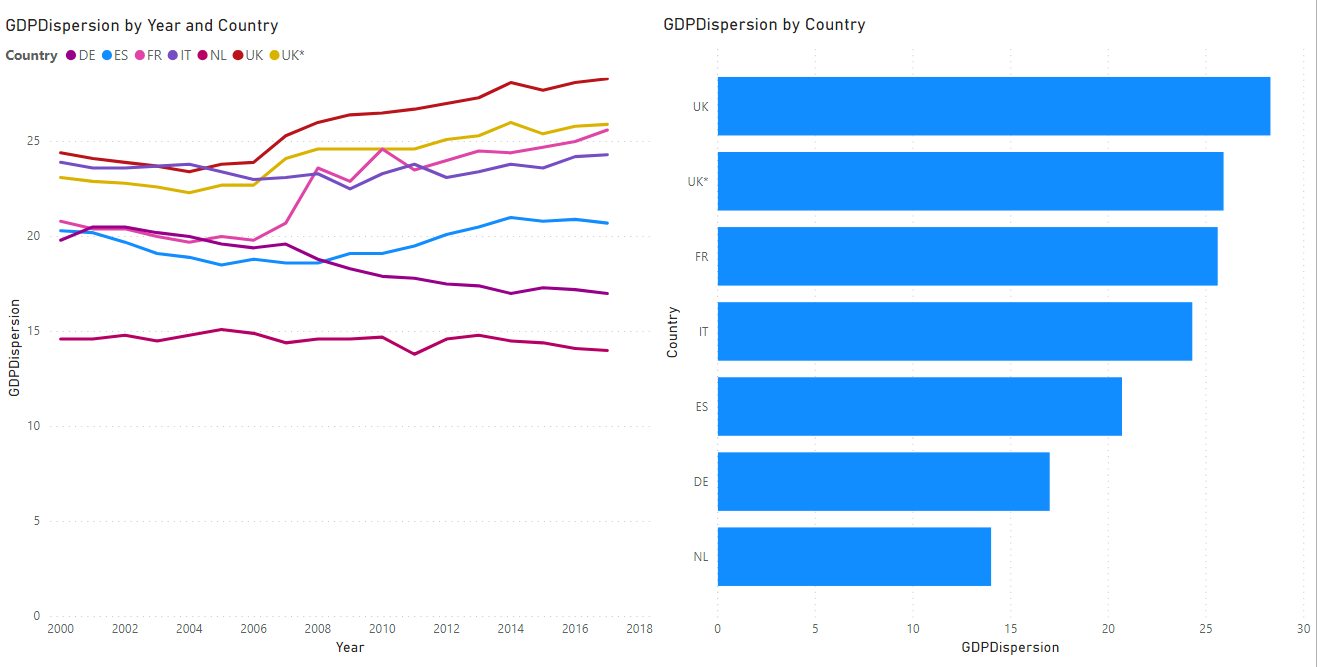

What the dashboard file says about the page in this screenshot:
{"tool":"powerbi","page":{"name":"Page 1","canvas":[1280,720],"ordinal":0},"visuals":[{"type":"lineChart","fields":{"Series":["CalculatedDisperions_LondonFix.Country"],"Y":["Sum(CalculatedDisperions_LondonFix.GDPDispersion)"],"Category":["CalculatedDisperions_LondonFix.Year"]},"box":[0,45.3,640,629],"z":0},{"type":"barChart","fields":{"Y":["Sum(CalculatedDisperions_LondonFix.GDPDispersion)"],"Category":["CalculatedDisperions_LondonFix.Country"]},"box":[640,45.3,640,629],"z":1}]}

Visuals, with their boxes on the page's 1280x720 design canvas (x1, y1, x2, y2). These are canvas units, not pixel positions in the 1320x667 screenshot, which may show the page scaled, cropped or inside an application window:
lineChart - CalculatedDisperions_LondonFix.Country x Sum(CalculatedDisperions_LondonFix.GDPDispersion): 0,45,640,674
barChart - Sum(CalculatedDisperions_LondonFix.GDPDispersion) x CalculatedDisperions_LondonFix.Country: 640,45,1280,674
